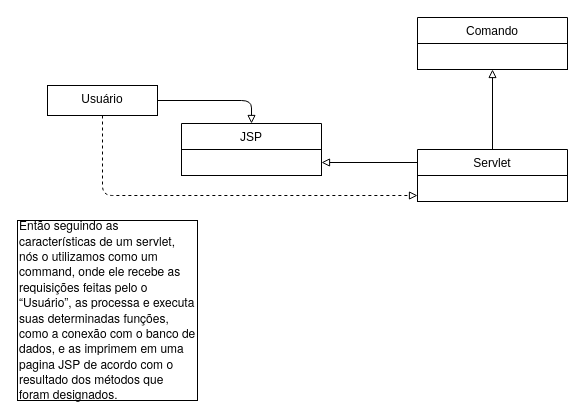
This 585x420 diagram has some shape labels left out. Here are the shapes that lost their labels. From the top down, the centre of each, then its label:
At point (492, 56): "+getRequestDispatcher".
At point (251, 162): "+BuscarDados".
At point (492, 188): "+Execute (BuscarDados)".
